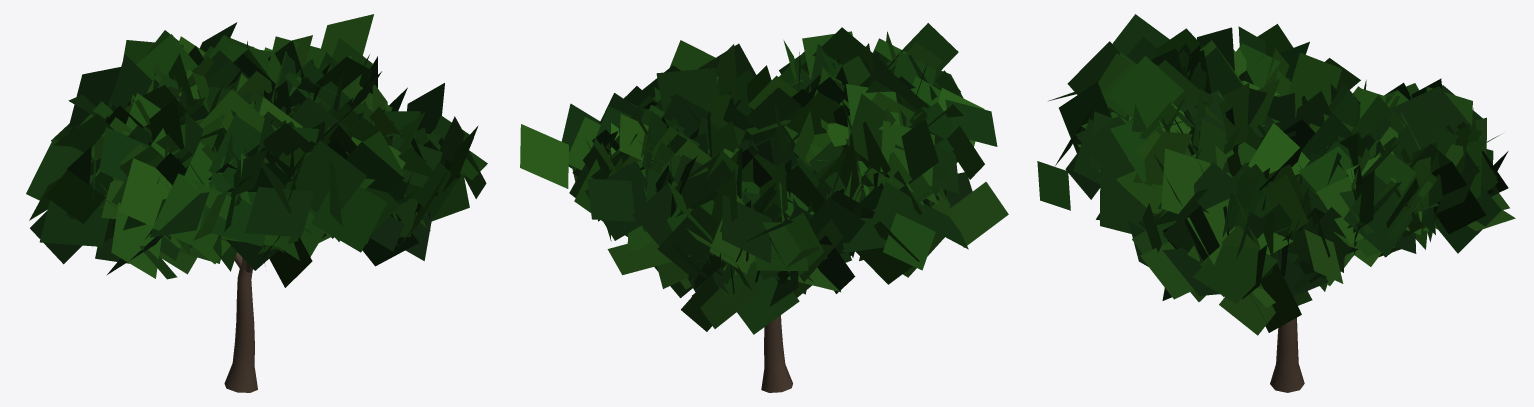
File: tree_leafy_wide.glb
3 views of the same model, side by side, from view 1: azimuth 30°, elevation 25°; view 2: azimuth 150°, elevation 25°; view 3: azimuth 270°, elevation 25° (orthographic). The views are drawn at different scales.
Parts seen in each view (by area): view 1: crown, trunk; view 2: crown, trunk; view 3: crown, trunk.
Boxes of the visible parts, x1,y1,x2,y2 form: crown: [26, 14, 487, 287]; trunk: [224, 252, 257, 392]; crown: [520, 23, 1008, 334]; trunk: [761, 315, 792, 392]; crown: [1037, 14, 1515, 335]; trunk: [1270, 317, 1304, 392].
Bounding box in the file's own units: 8.99 × 6.55 × 8.52.
